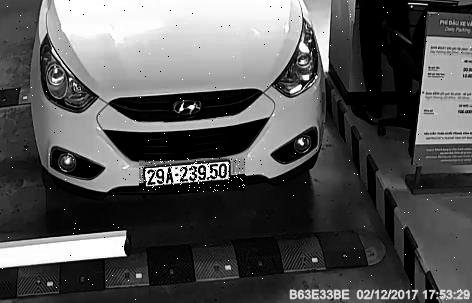License-plate: (141, 160, 248, 194)
